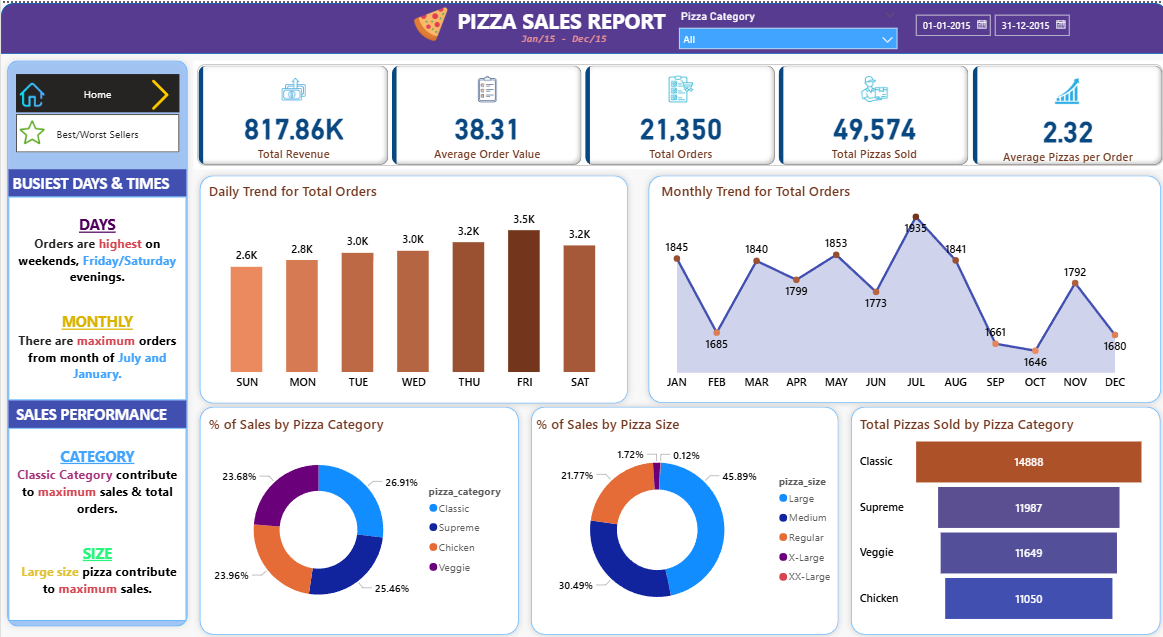

What the dashboard file says about the page in this screenshot:
{"tool":"powerbi","page":{"name":"Home","canvas":[1500,820],"ordinal":0},"visuals":[{"type":"shape","box":[0,65.4,248,744],"z":0},{"type":"cardVisual","fields":{"Data":["pizza_sales.Total Revenue","pizza_sales.Average Order Value","pizza_sales.Total Orders","pizza_sales.Total Pizzas Sold","pizza_sales.Average Pizzas per Order"]},"box":[248,73.6,1252.3,140.4],"z":1000},{"type":"shape","box":[0,0,1500.3,65.4],"z":2000},{"type":"textbox","box":[581.9,0,291.6,54.5],"z":3000},{"type":"textbox","box":[663.6,31.3,151.3,34.1],"z":4000},{"type":"image","box":[505.5,0,95.4,54.5],"z":5000},{"type":"shape","box":[248,213.9,566.9,309.3],"z":6000},{"type":"columnChart","title":"Daily Trend for Total Orders","fields":{"Y":["pizza_sales.Total Orders"],"Category":["pizza_sales.Order Day"]},"box":[261.6,230.3,538.2,278],"z":7000},{"type":"shape","box":[824.9,213.9,675.4,308.7],"z":8000},{"type":"areaChart","title":"Monthly Trend for Total Orders","fields":{"Category":["pizza_sales.Order Month"],"Y":["pizza_sales.Total Orders"]},"box":[843.5,230.3,614.6,278],"z":9000},{"type":"shape","box":[248,511,426.5,309.3],"z":10000},{"type":"shape","box":[674.5,511,411.5,309.3],"z":11000},{"type":"shape","box":[1086,511,414.2,309.3],"z":12000},{"type":"donutChart","title":"% of Sales by Pizza Category","fields":{"Category":["pizza_sales.pizza_category"],"Y":["pizza_sales.Total Revenue"]},"box":[261.6,528.7,402,275.3],"z":13000},{"type":"donutChart","title":"% of Sales by Pizza Size","fields":{"Y":["pizza_sales.Total Revenue"],"Category":["pizza_sales.pizza_size"]},"box":[684,528.7,402,275.3],"z":14000},{"type":"funnel","title":"Total Pizzas Sold by Pizza Category","fields":{"Category":["pizza_sales.pizza_category"],"Y":["pizza_sales.Total Pizzas Sold"]},"box":[1099.7,528.7,377.5,275.3],"z":15000},{"type":"textbox","box":[9.5,213.9,228.9,35.4],"z":16000},{"type":"textbox","box":[9.5,546.4,228.9,248],"z":17000},{"type":"textbox","box":[9.5,249.4,228.9,261.6],"z":18000},{"type":"textbox","box":[9.5,511,228.9,35.4],"z":19000},{"type":"slicer","fields":{"Values":["pizza_sales.pizza_category"]},"box":[862.6,2.7,301.1,55.9],"z":20000},{"type":"slicer","fields":{"Values":["pizza_sales.order_date"]},"box":[1163.7,5.5,336.6,55.9],"z":21000},{"type":"pageNavigator","box":[19.3,91.7,210.7,49.9],"z":22000},{"type":"pageNavigator","box":[19.3,143.1,210.7,49.9],"z":23000},{"type":"image","box":[180.1,93.3,49.9,49.9],"z":24000},{"type":"image","box":[19.3,93.3,41.8,49.9],"z":25000},{"type":"image","box":[19.3,141.5,41.8,49.9],"z":26000}]}

Visuals, with their boxes in screenshot pixels (x1, y1, x2, y2), scaled from the page's 1500x820 canvas onto the 1163x637 screenshot:
shape: 0, 51, 192, 629
cardVisual - pizza_sales.Total Revenue x pizza_sales.Average Order Value: 192, 57, 1162, 166
shape: 0, 0, 1162, 51
textbox: 451, 0, 677, 42
textbox: 515, 24, 632, 51
image: 392, 0, 466, 42
shape: 192, 166, 632, 406
"Daily Trend for Total Orders" columnChart: 203, 179, 620, 395
shape: 640, 166, 1162, 406
"Monthly Trend for Total Orders" areaChart: 654, 179, 1131, 395
shape: 192, 397, 523, 636
shape: 523, 397, 842, 636
shape: 842, 397, 1162, 636
"% of Sales by Pizza Category" donutChart: 203, 411, 515, 625
"% of Sales by Pizza Size" donutChart: 530, 411, 842, 625
"Total Pizzas Sold by Pizza Category" funnel: 853, 411, 1145, 625
textbox: 7, 166, 185, 194
textbox: 7, 424, 185, 617
textbox: 7, 194, 185, 397
textbox: 7, 397, 185, 424
slicer - pizza_sales.pizza_category: 669, 2, 902, 46
slicer - pizza_sales.order_date: 902, 4, 1162, 48
pageNavigator: 15, 71, 178, 110
pageNavigator: 15, 111, 178, 150
image: 140, 72, 178, 111
image: 15, 72, 47, 111
image: 15, 110, 47, 149
